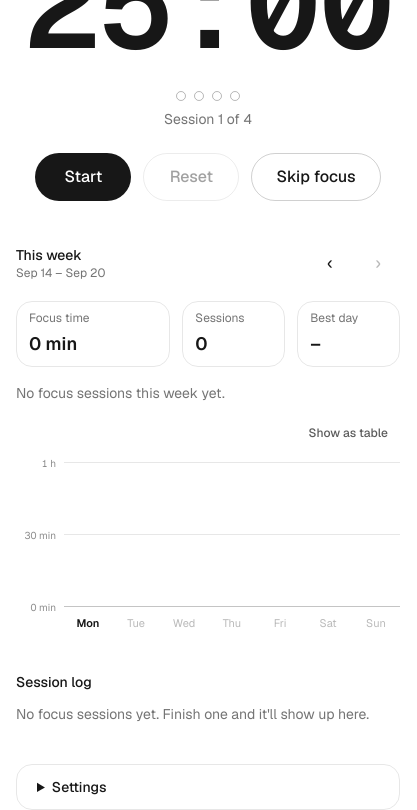
Test: settings › changes how many dots the cycle has
(page scrolled)
Click the heading "Settings" at (79, 786), box left=52, top=778, right=106, bottom=796
(page scrolled)
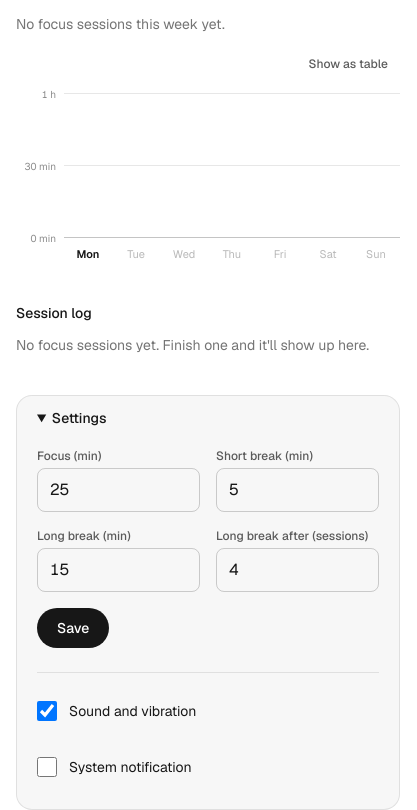
Replace the text in the number field labelled "Long break after (sessions)" with "3" at (298, 570), box left=216, top=548, right=379, bottom=592
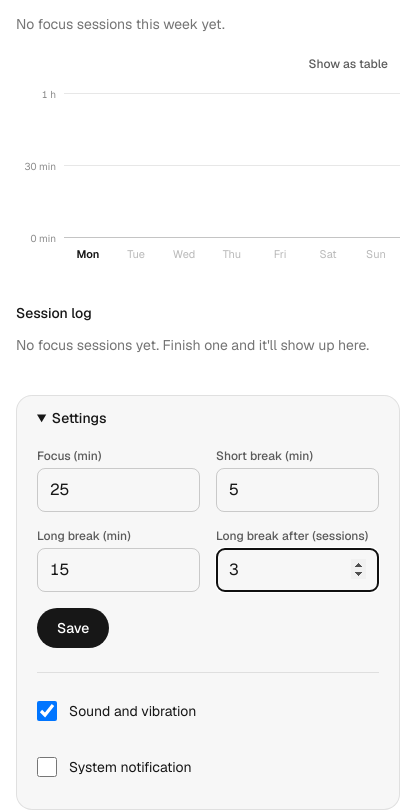
Click the button "Save" at (73, 628), box left=37, top=608, right=109, bottom=648
(page scrolled)
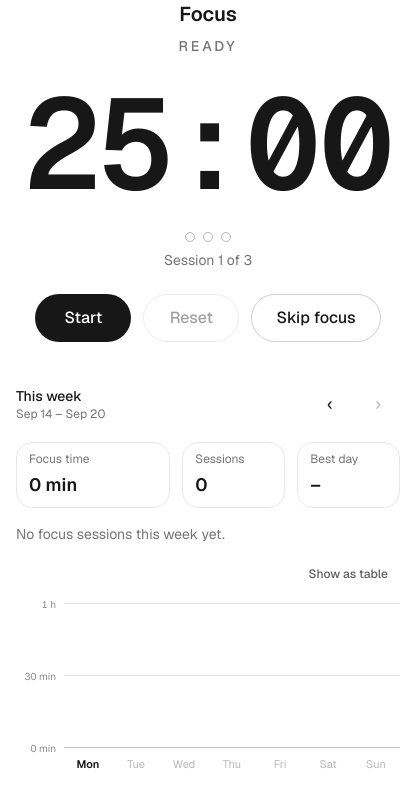
Result: the text "Session 1 of 3" is shown at left=164, top=250, right=252, bottom=270
